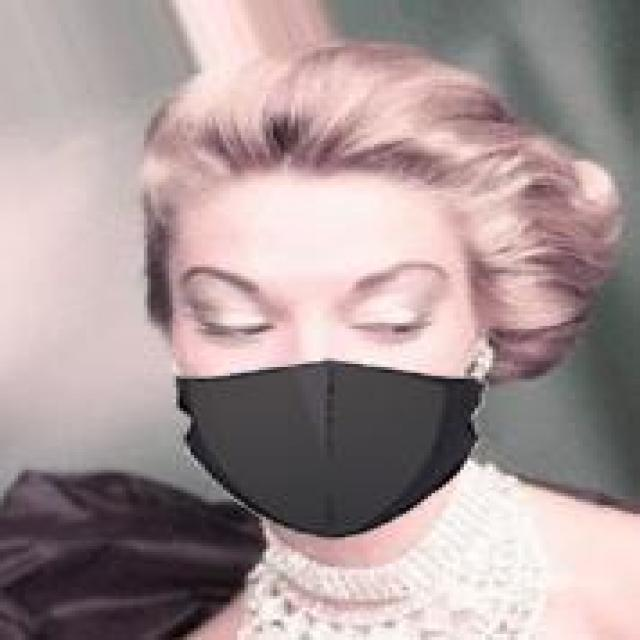mask: (94, 50, 568, 537)
